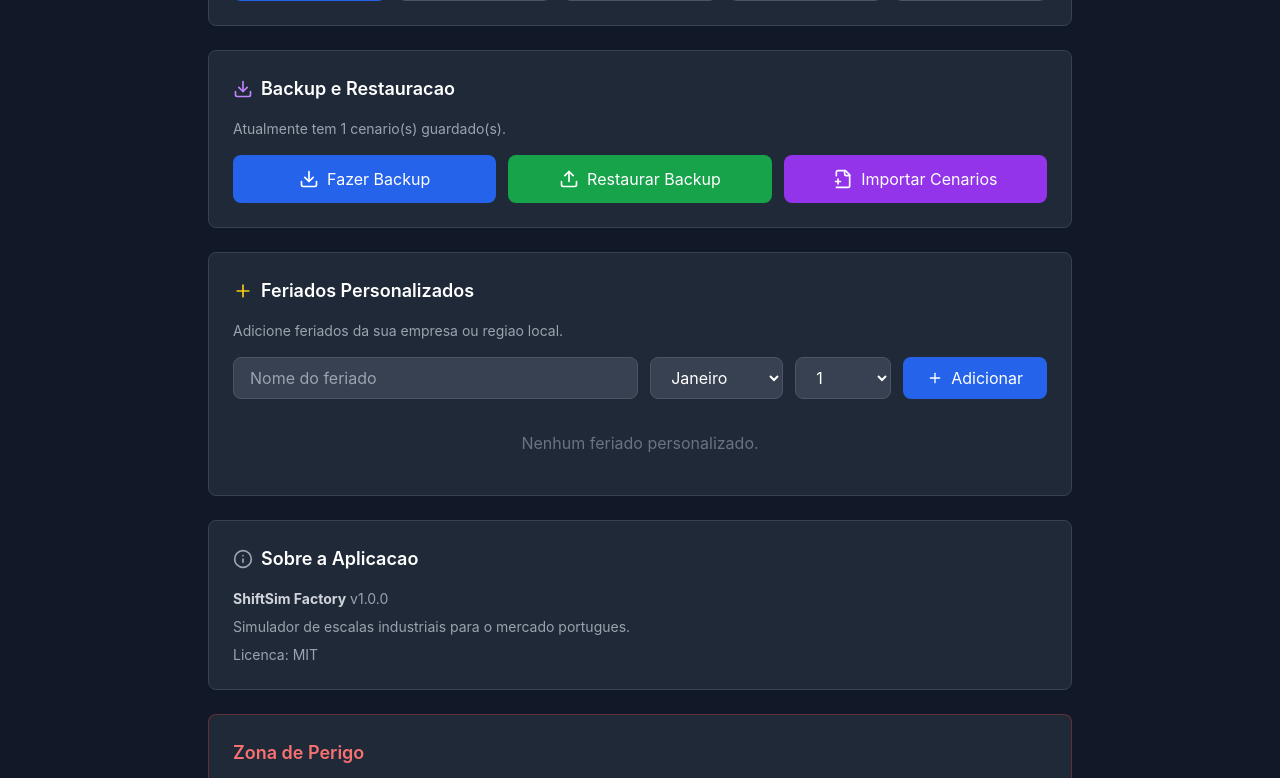
Scenario: SettingsPage › should allow adding a custom holiday
(page scrolled)
Step 1. Type "Dia da Empresa" into the field with placeholder "Nome do feriado" → coordinates (436, 378), box left=233, top=357, right=638, bottom=399
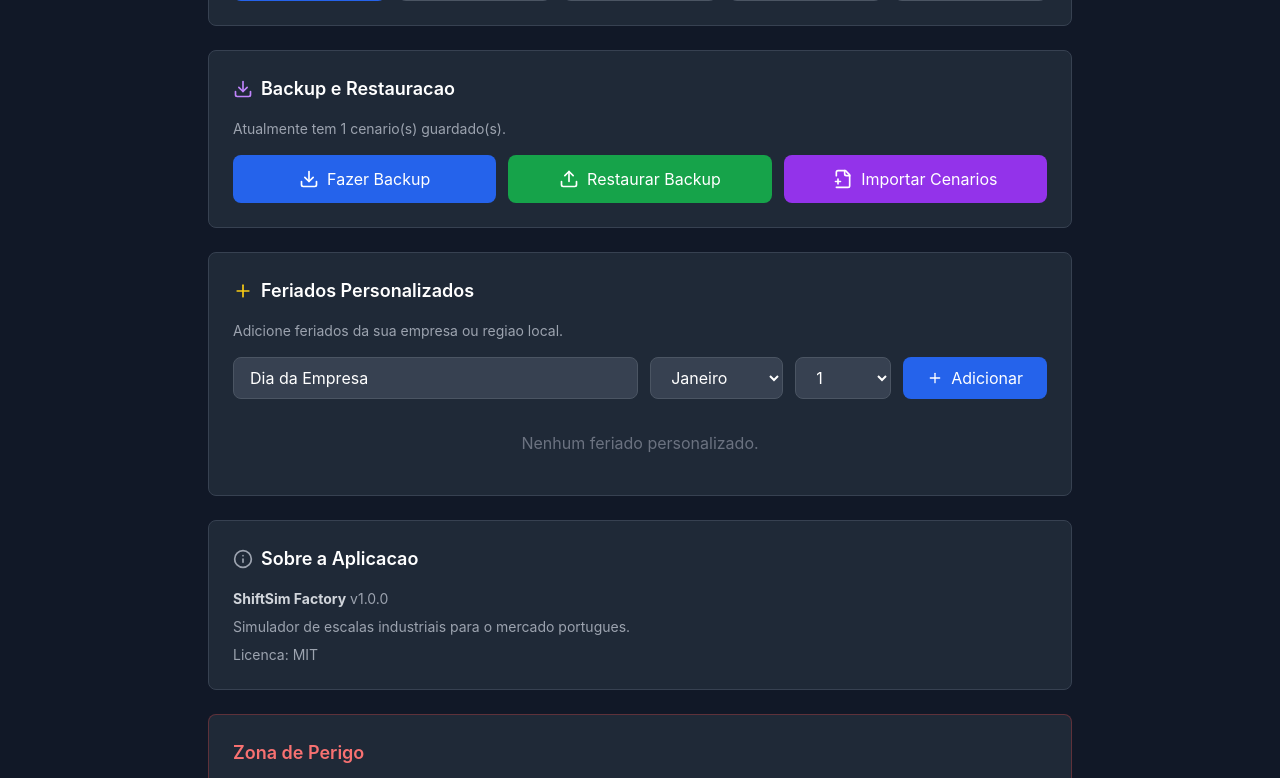
Step 2. Click the button "Adicionar" → coordinates (975, 378), box left=903, top=357, right=1047, bottom=399
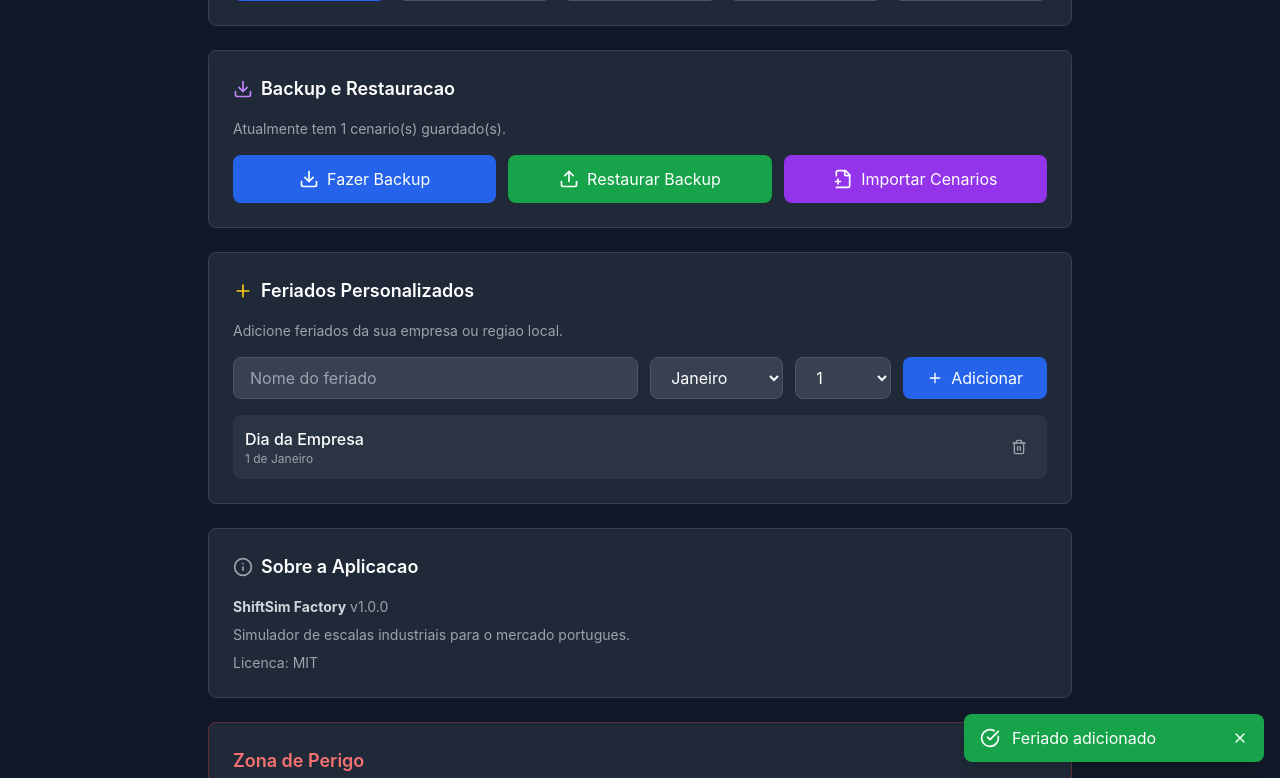
Check: the text "Feriado adicionado" is shown, box left=1012, top=728, right=1156, bottom=748
